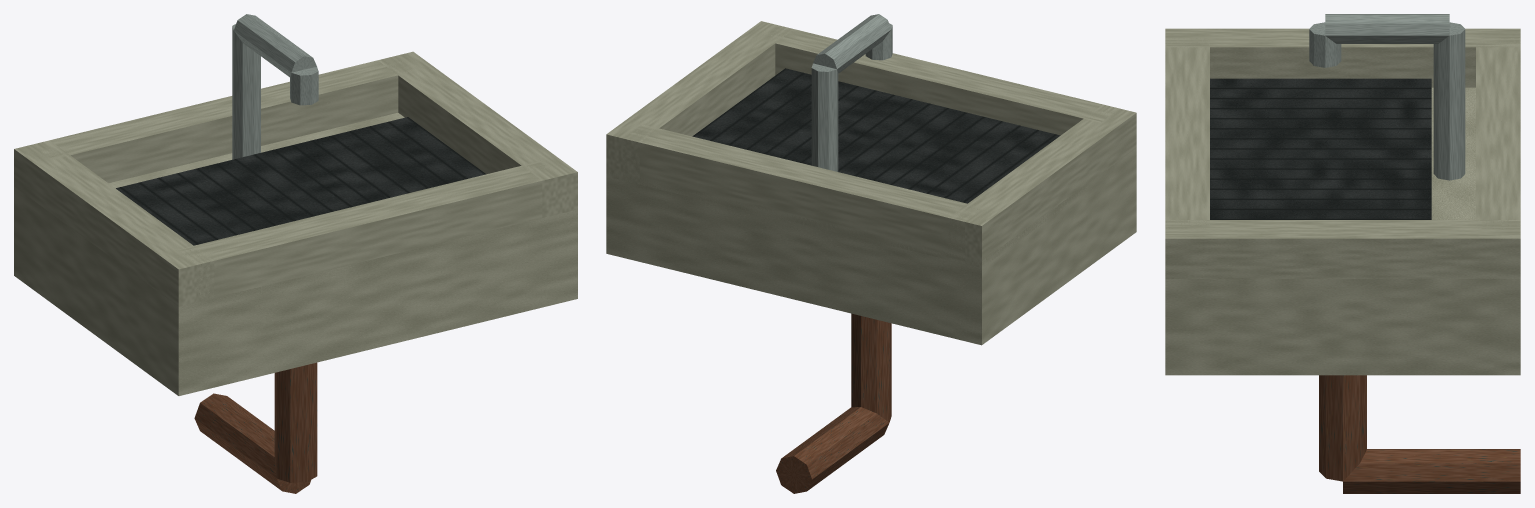
The model's file is WallSink.obj.
3 renders of one model, left to right at view 1: azimuth 30°, elevation 25°; view 2: azimuth 150°, elevation 25°; view 3: azimuth 270°, elevation 25°, orthographic. The views are drawn at different scales.
Parts seen in each view (by area): view 1: WallSink; view 2: WallSink; view 3: WallSink.
Boxes of the visible parts, x1=… form: WallSink: x1=14, y1=14, x2=577, y2=493; WallSink: x1=606, y1=14, x2=1136, y2=493; WallSink: x1=1165, y1=14, x2=1520, y2=493.
Size of the model in its own units: 0.56 by 0.595 by 0.4.
Materials: 4 (4 with a texture image).
